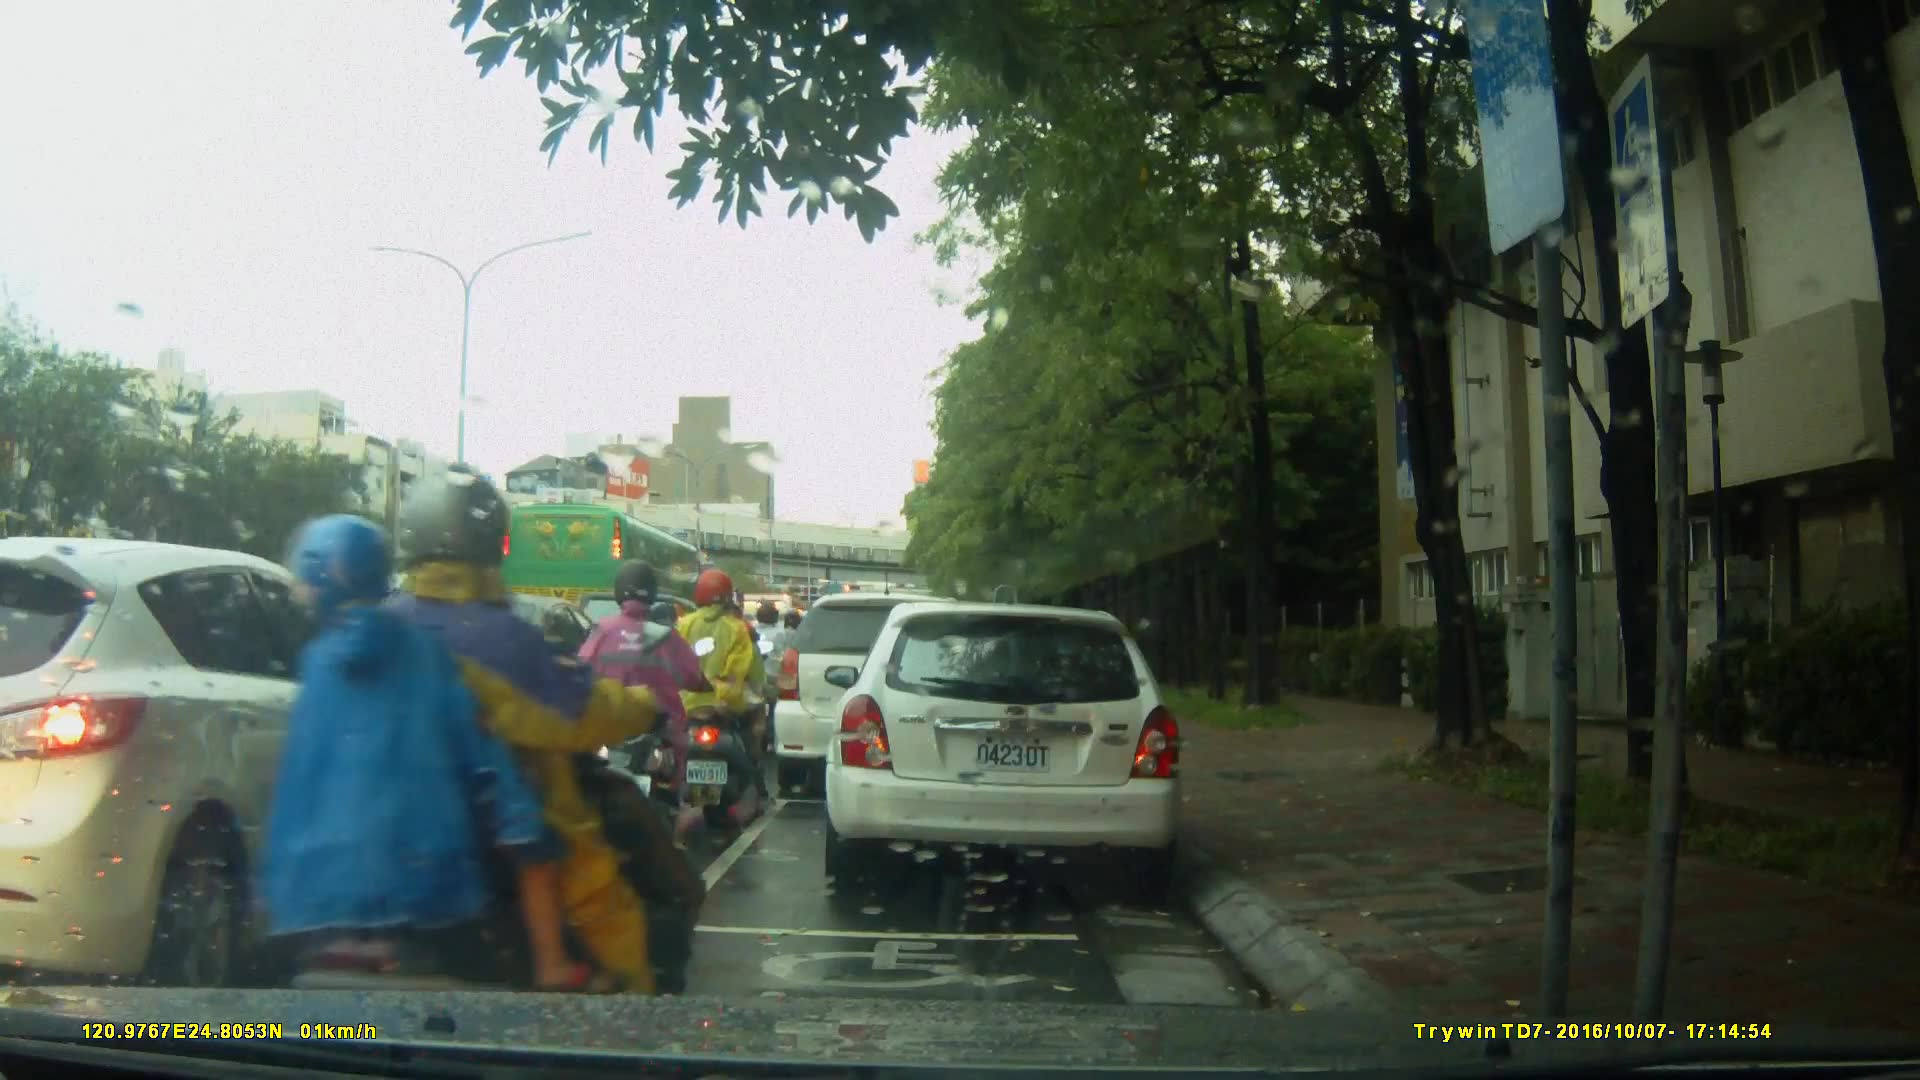rider: (259, 469, 709, 1073), (575, 564, 690, 868), (679, 566, 767, 815), (695, 591, 762, 761), (746, 598, 800, 750), (773, 605, 815, 715)
vehicle: (5, 536, 469, 988), (831, 592, 1196, 897), (316, 589, 629, 776), (770, 590, 999, 804), (497, 503, 713, 636)
